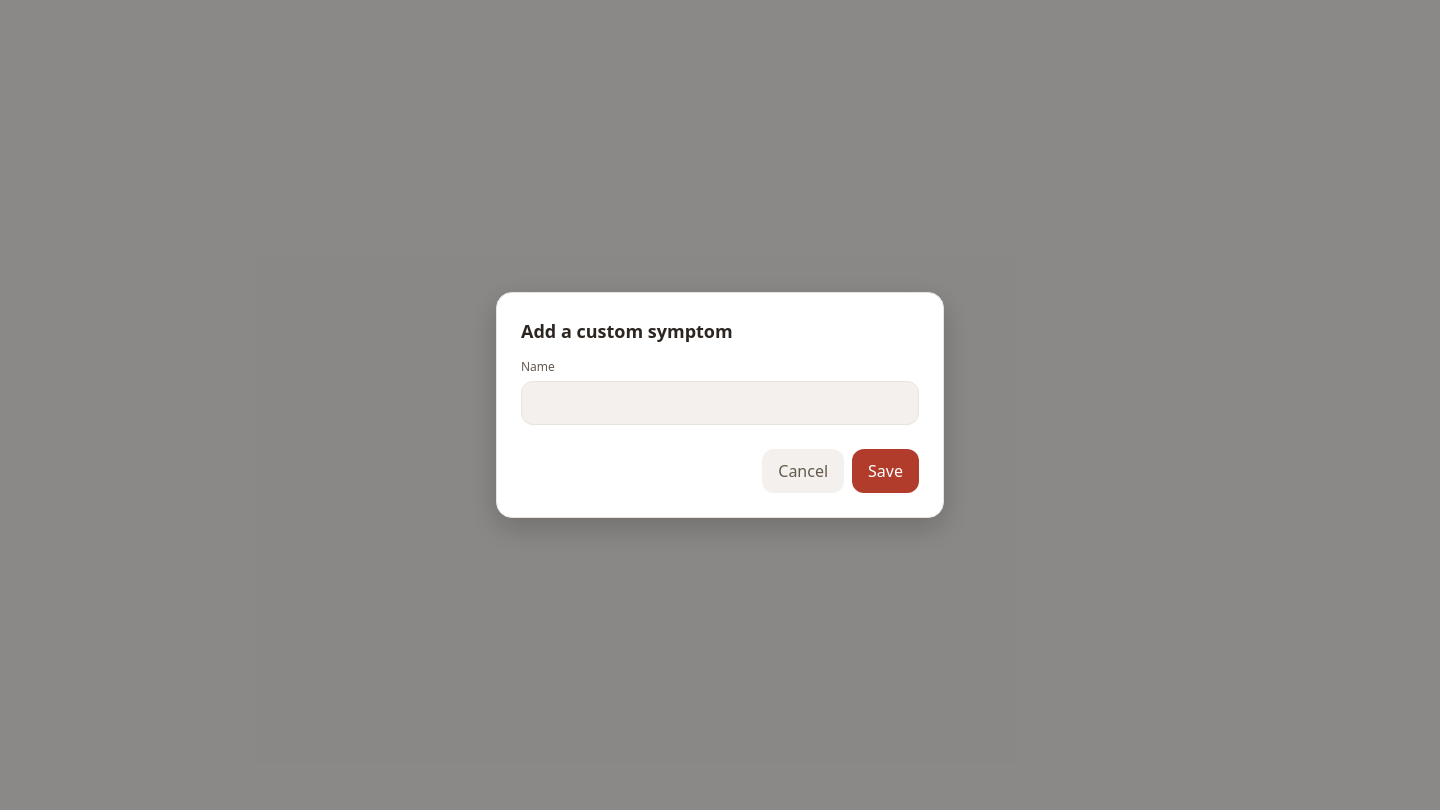
Test case: CustomItemModal — close + label-required › shows label-required error when submitting empty
Click the button with test id "custom-item-save" at (886, 471), box x1=852 y1=449 x2=919 y2=493
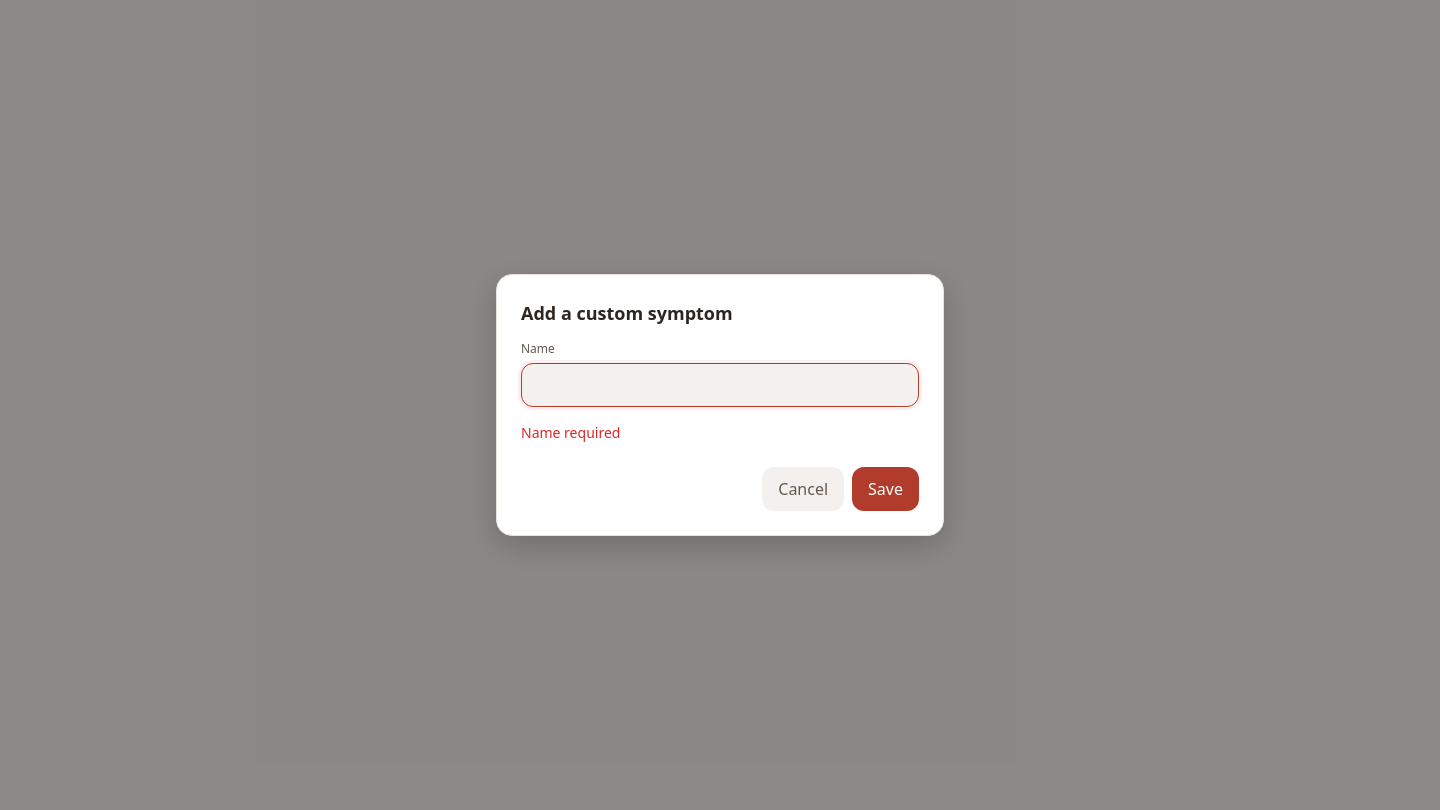
Check: the text "Name required" is shown, box x1=521 y1=423 x2=620 y2=442
